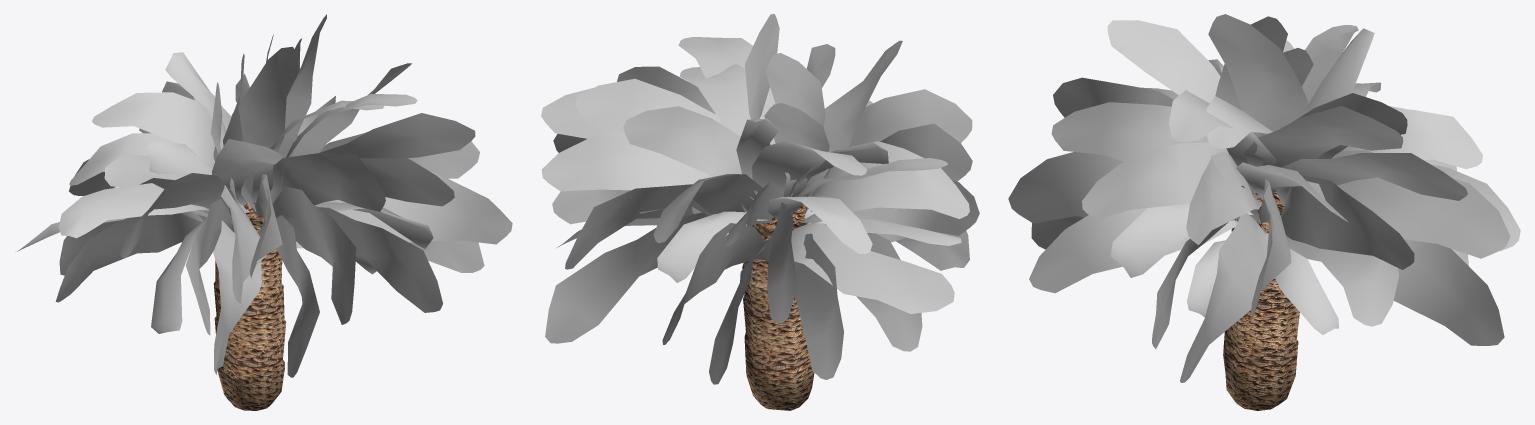
File: Model_Tree_04.fbx
3 views of the same model, side by side, from view 1: azimuth 30°, elevation 25°; view 2: azimuth 150°, elevation 25°; view 3: azimuth 270°, elevation 25° (orthographic). The views are drawn at different scales.
Parts seen in each view (by area): view 1: Tree_04; view 2: Tree_04; view 3: Tree_04.
Boxes of the visible parts, x1,y1,x2,y2 form: Tree_04: [15, 14, 512, 410]; Tree_04: [541, 14, 979, 410]; Tree_04: [1008, 14, 1520, 410].
Size of the model in its own units: 725 by 586 by 676.
